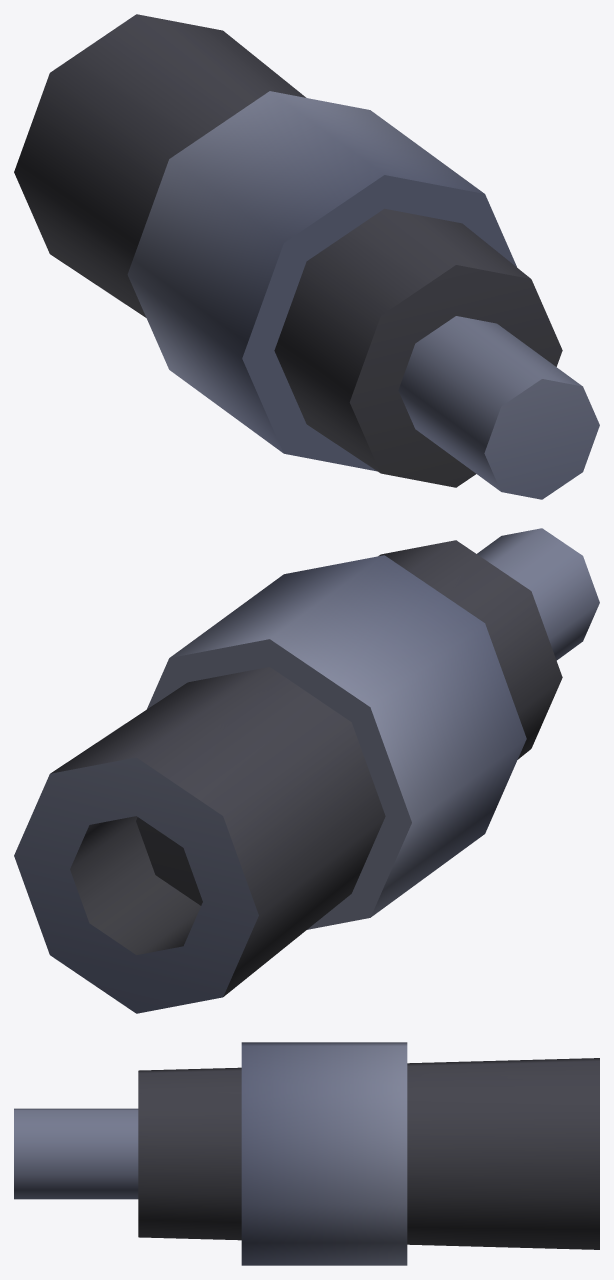
Rendered from silencer-larger.glb.
The picture shows the model from 3 angles, top to bottom: view 1: azimuth 30°, elevation 25°; view 2: azimuth 150°, elevation 25°; view 3: azimuth 270°, elevation 25°; orthographic projection. The views are drawn at different scales.
Visible parts, largest first — view 1: silencer-larger; view 2: silencer-larger; view 3: silencer-larger.
Part boxes in pixels (<box>): silencer-larger: <box>14,14,599,499</box>; silencer-larger: <box>14,528,599,1013</box>; silencer-larger: <box>14,1042,599,1265</box>.
Bounding box in the file's own units: 0.1146 × 0.1146 × 0.283.
1 material, 1 textured.
